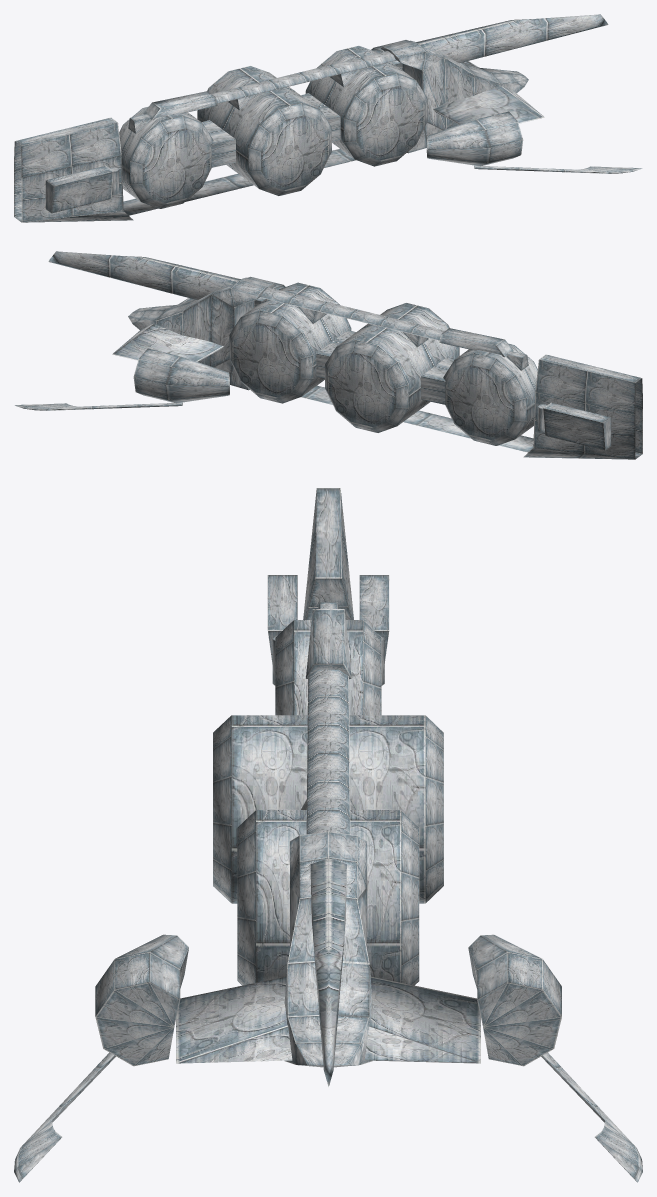
File: sjp13.obj
3 renders of one model, top to bottom at view 1: azimuth 30°, elevation 25°; view 2: azimuth 150°, elevation 25°; view 3: azimuth 270°, elevation 25°, orthographic. The views are drawn at different scales.
Parts seen in each view (by area): view 1: BACK0, TRADER_30, MID0, WING_ROT_R070; view 2: BACK0, TRADER_30, MID0, WING_ROT_R060; view 3: BACK0, TRADER_30, MID0, WING_ROT_R070, WING_ROT_R060.
Boxes of the visible parts, x1,y1,x2,y2 form: BACK0: (305, 14, 608, 166); TRADER_30: (14, 51, 396, 222); MID0: (197, 66, 331, 195); WING_ROT_R070: (474, 165, 642, 173); BACK0: (48, 251, 351, 403); TRADER_30: (260, 288, 642, 459); MID0: (325, 303, 459, 432); WING_ROT_R060: (15, 402, 182, 410); BACK0: (95, 799, 561, 1086); TRADER_30: (267, 488, 389, 834); MID0: (213, 715, 443, 903); WING_ROT_R070: (14, 1052, 115, 1182); WING_ROT_R060: (541, 1052, 642, 1182).
Size of the model in its own units: 107 by 17.95 by 51.49.
5 materials, 5 textured.
